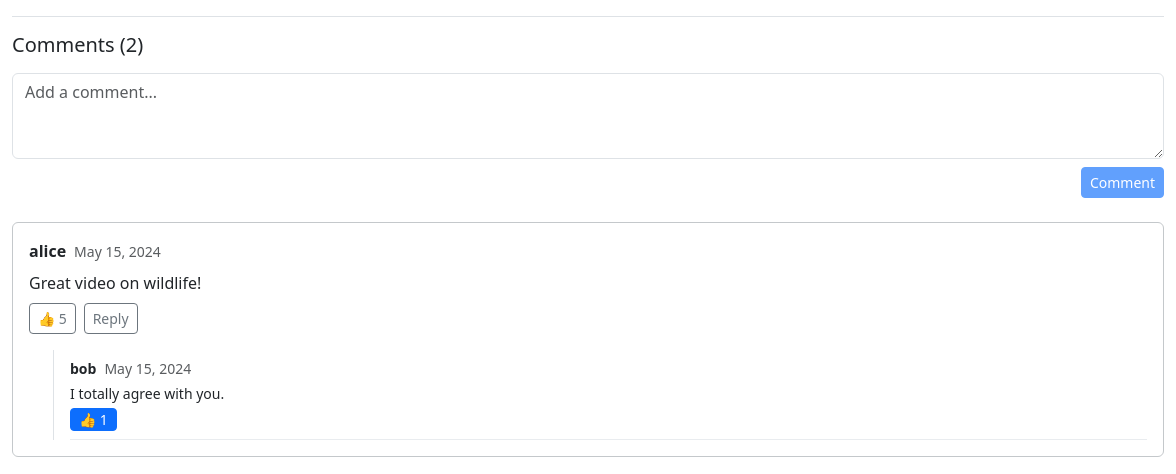
Test: CommentSection › toggles like on a comment (PUT when unliked, DELETE when liked)
The image size is (1176, 474).
Click the button named "Like comment by alice" at (52, 318), box [29,303,76,334]
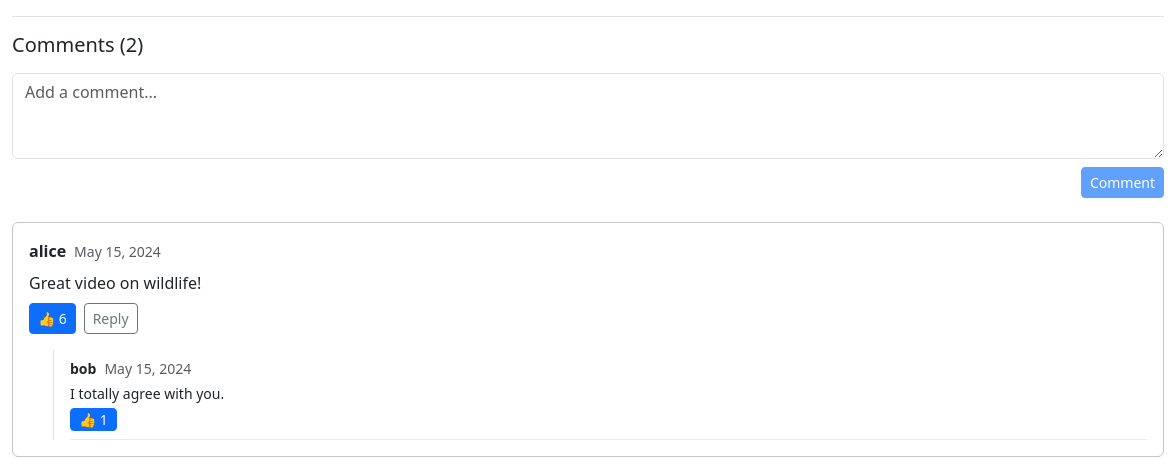
Check: the button named "Like comment by alice" reads "👍 6", box [29,303,76,334]
Click the button named "Like reply by bob" at (93, 420), box [70,408,117,431]
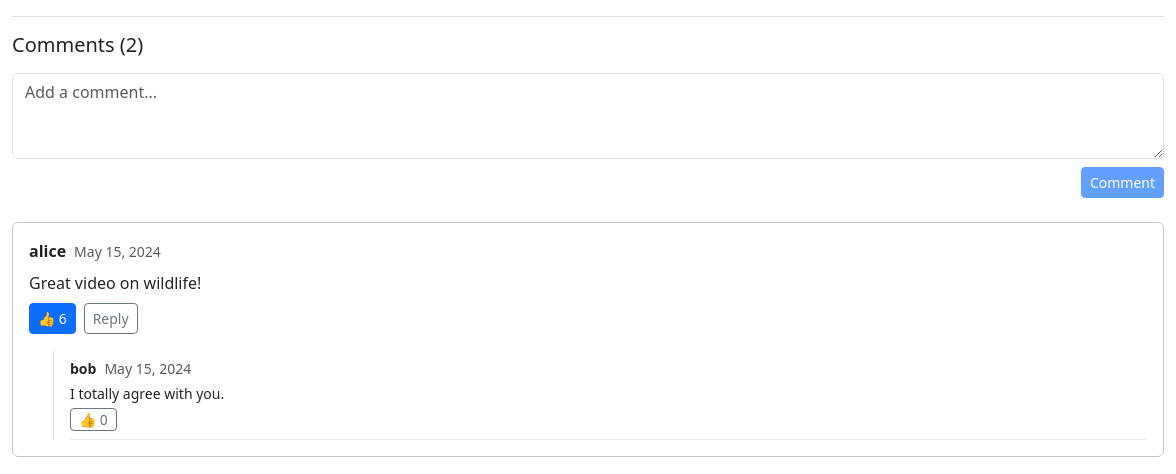
Check: the button named "Like reply by bob" reads "👍 0", box [70,408,117,431]
